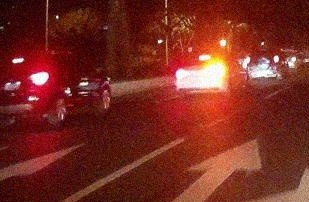L_light: (176, 70, 188, 78)
R_light: (210, 68, 223, 77)
T_light: (200, 56, 209, 60)
night-right: (174, 53, 225, 99)
